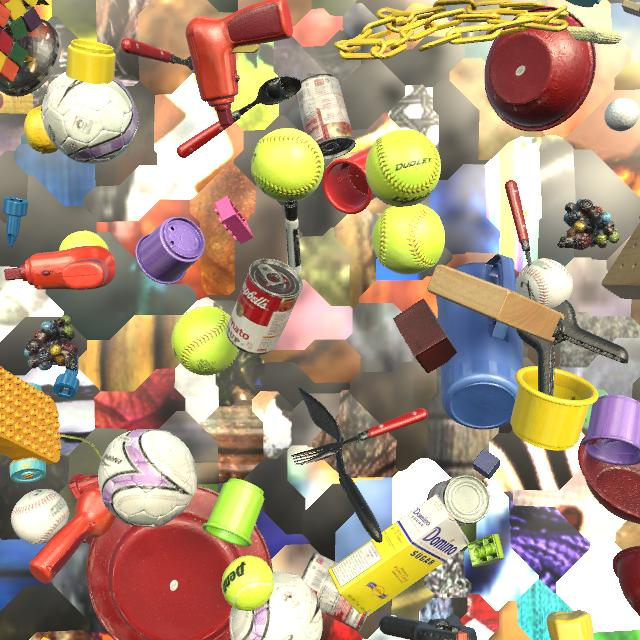ycb_004_sugar_box: (328, 494, 470, 616)
ycb_005_tomato_soup_can: (226, 259, 303, 355), (301, 552, 370, 633), (295, 74, 356, 160), (427, 475, 491, 526)
ycb_006_mustard_bottle: (546, 610, 594, 640)
ycb_014_lemon: (24, 105, 58, 154)
